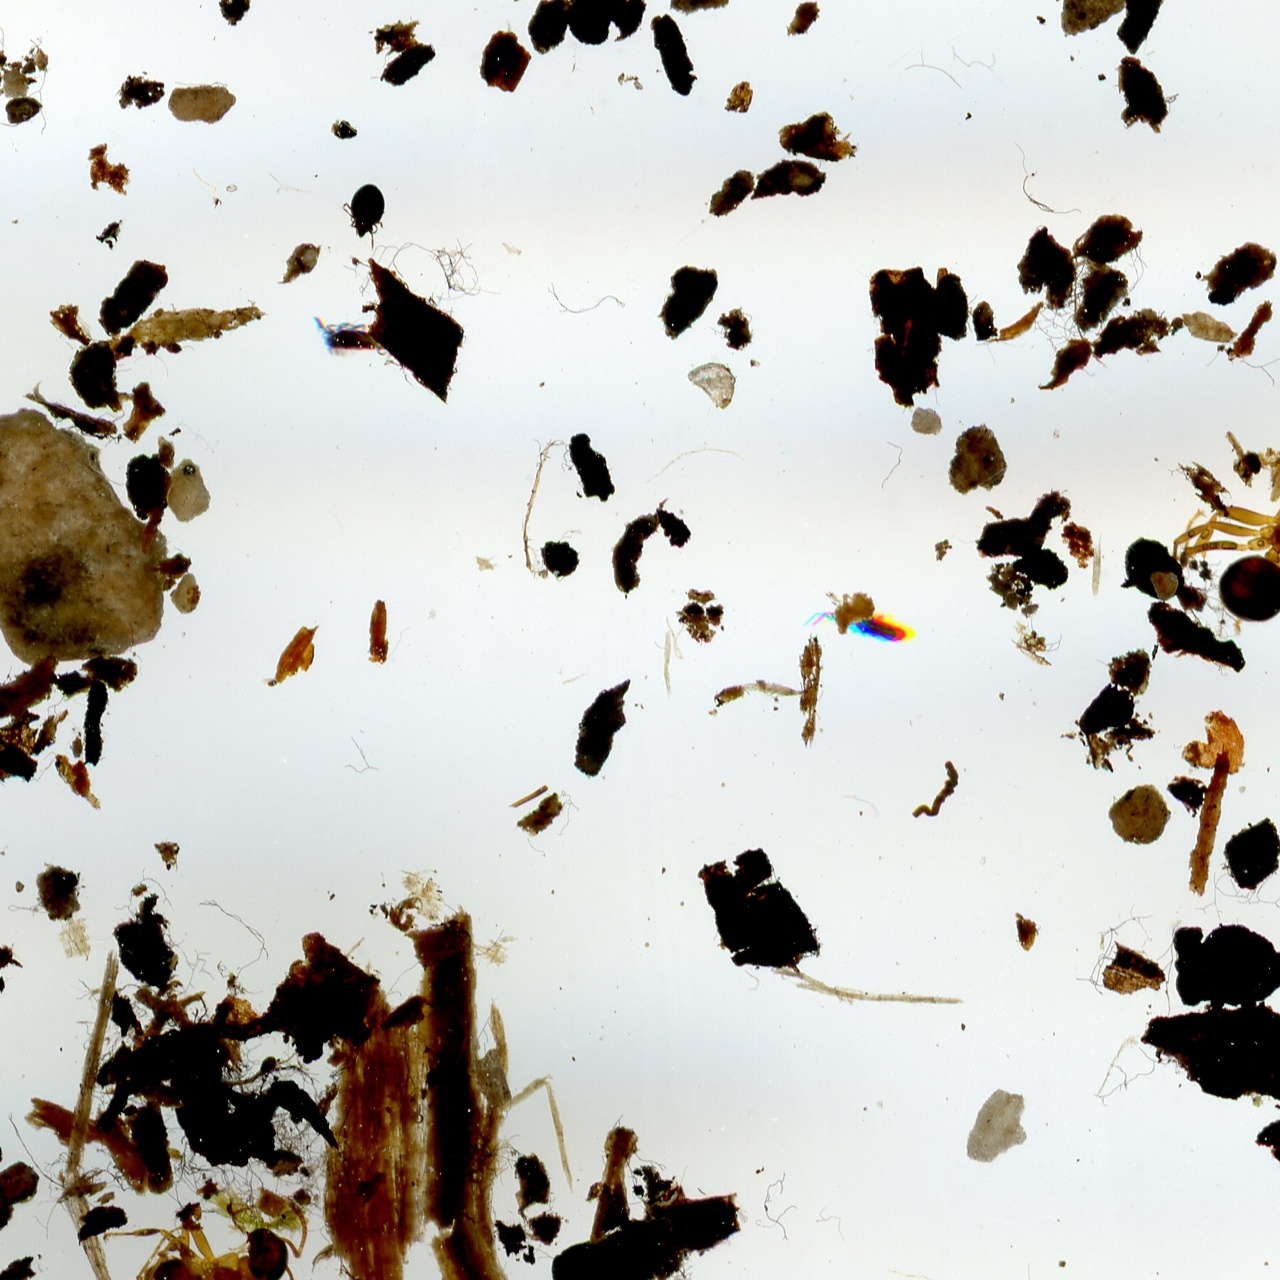arthropod: (1145, 387, 1280, 667), (102, 1199, 309, 1280), (797, 592, 924, 652), (311, 313, 393, 363), (338, 179, 388, 253)
